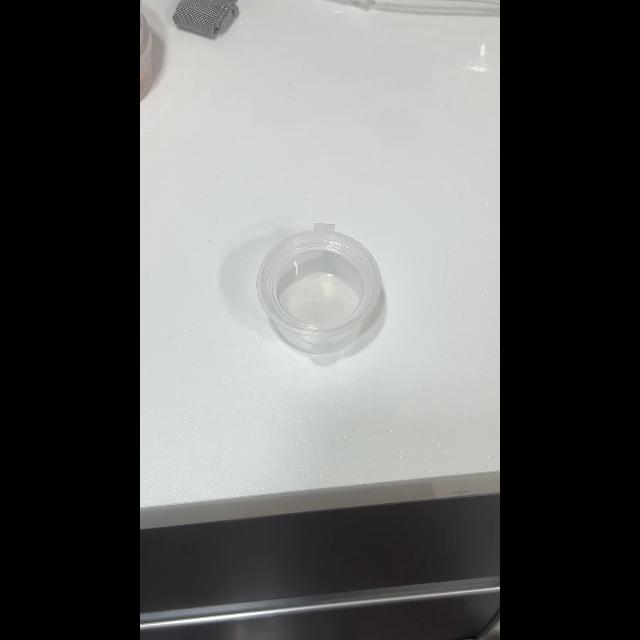clean: (254, 224, 382, 354)
